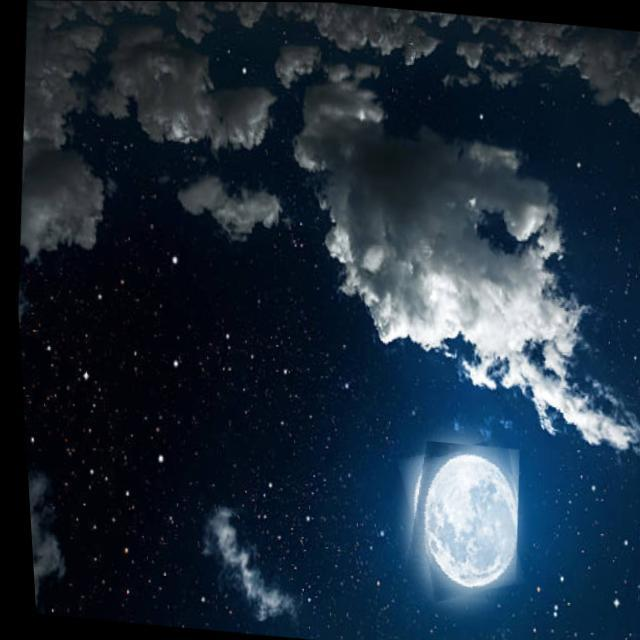moon: (388, 438, 520, 603)
